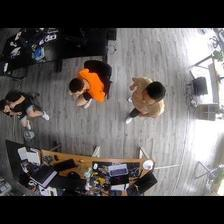normal: (124, 73, 168, 130), (1, 91, 52, 133), (66, 60, 106, 109)
